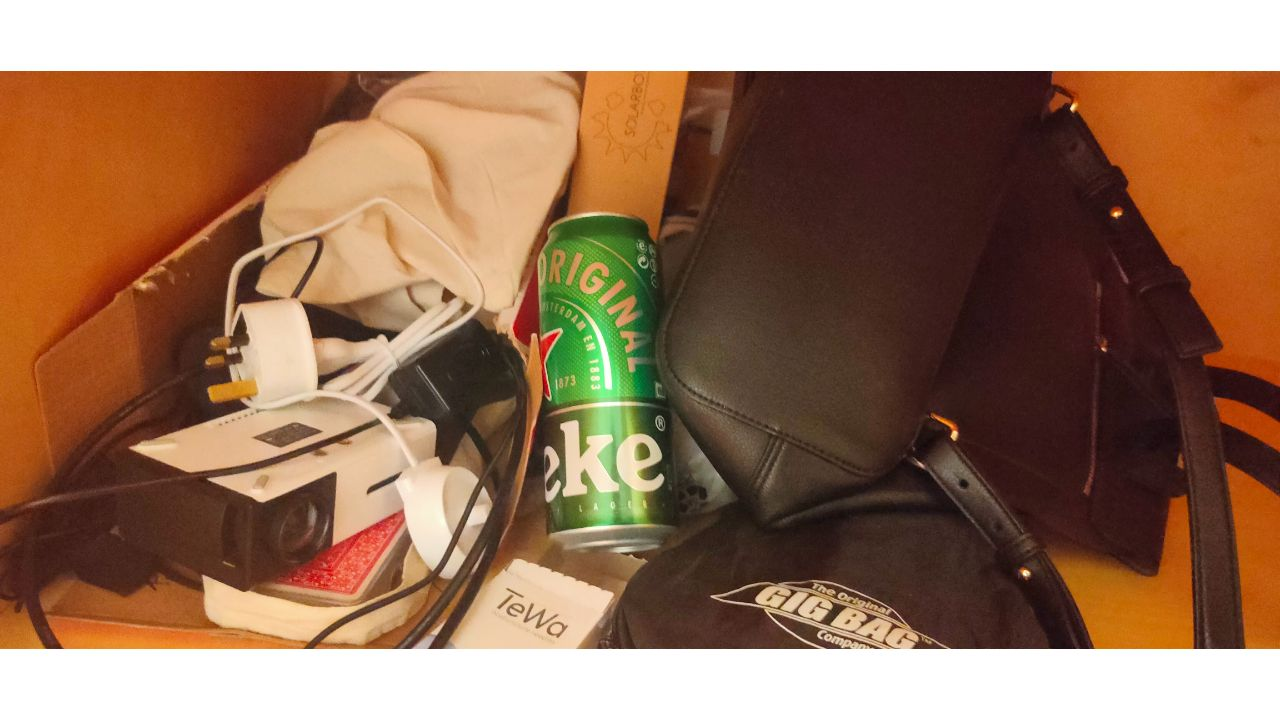Can: (537, 212, 677, 550)
